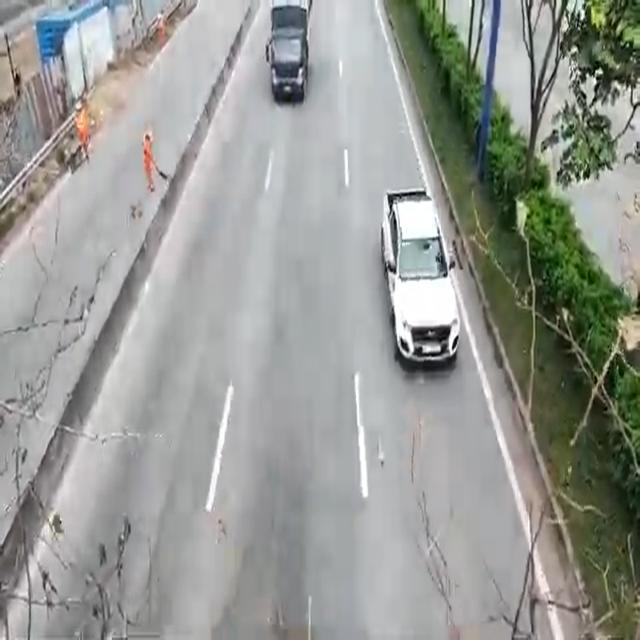car: (378, 190, 464, 374)
truck: (269, 3, 309, 108)
